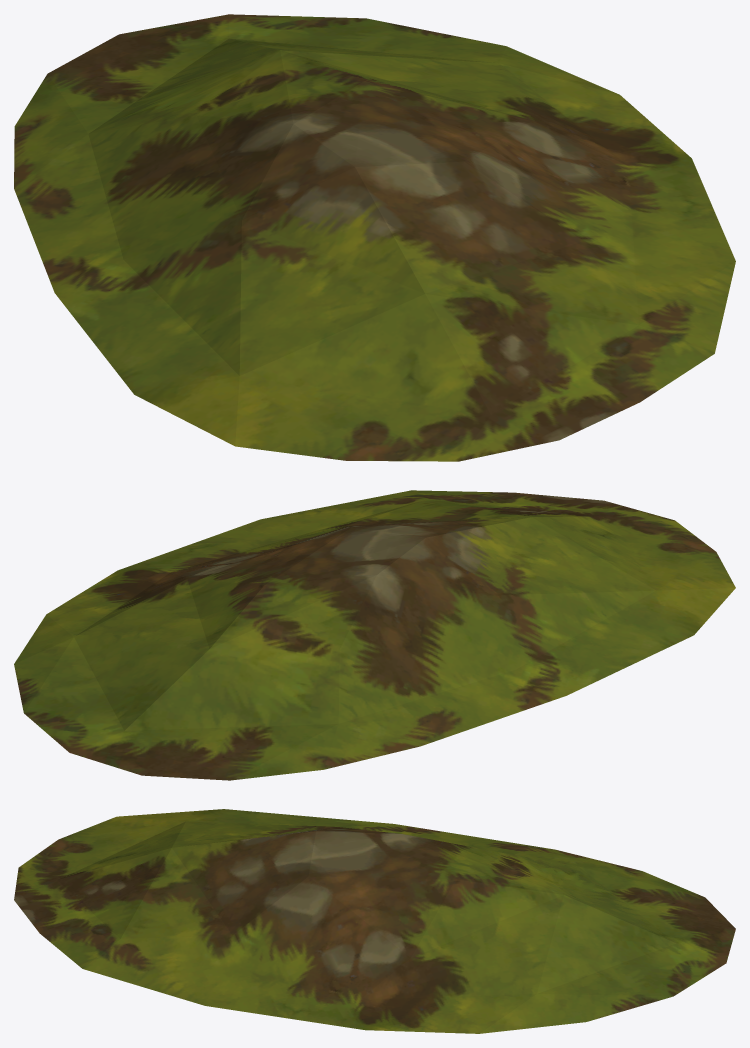
Rendered from small_hill03.fbx.
3 views of the same model, one above another, from view 1: azimuth 30°, elevation 25°; view 2: azimuth 150°, elevation 25°; view 3: azimuth 270°, elevation 25° (orthographic). The views are drawn at different scales.
Visible parts, largest first — view 1: obj0.019; view 2: obj0.019; view 3: obj0.019.
Boxes of the visible parts, <box> form: obj0.019: <box>14,14,735,461</box>; obj0.019: <box>14,490,735,780</box>; obj0.019: <box>14,809,735,1033</box>.
Size of the model in its own units: 8.33 by 1.28 by 11.3.
